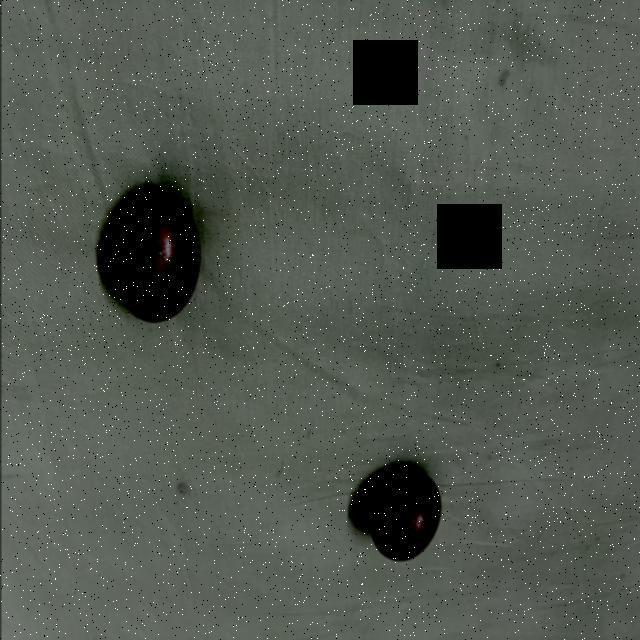egg: (112, 185, 204, 328), (366, 461, 442, 566)
